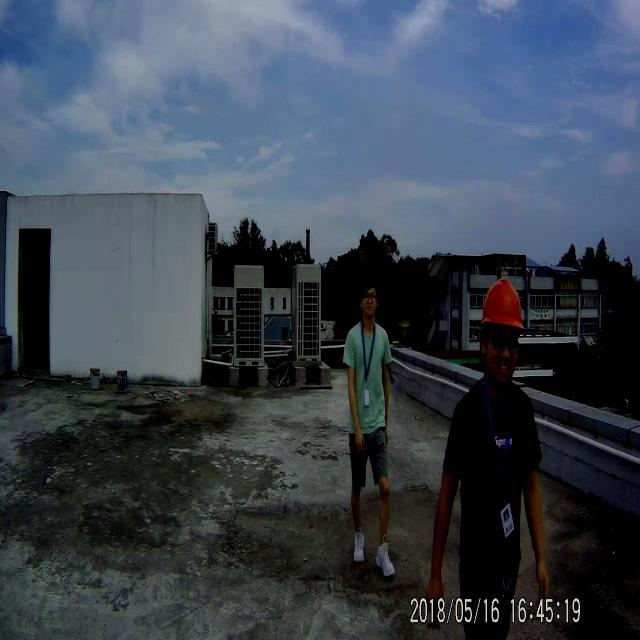face_nomask: (485, 321, 521, 394), (362, 293, 380, 319)
glasses: (490, 336, 522, 358), (361, 292, 379, 304)
hand_noglove: (353, 430, 368, 458)
head_helmet: (477, 272, 528, 331)
head_nohelmet: (359, 276, 381, 295)
person: (451, 260, 536, 638), (340, 276, 394, 578)
shoes: (374, 541, 396, 578), (352, 526, 368, 567)
